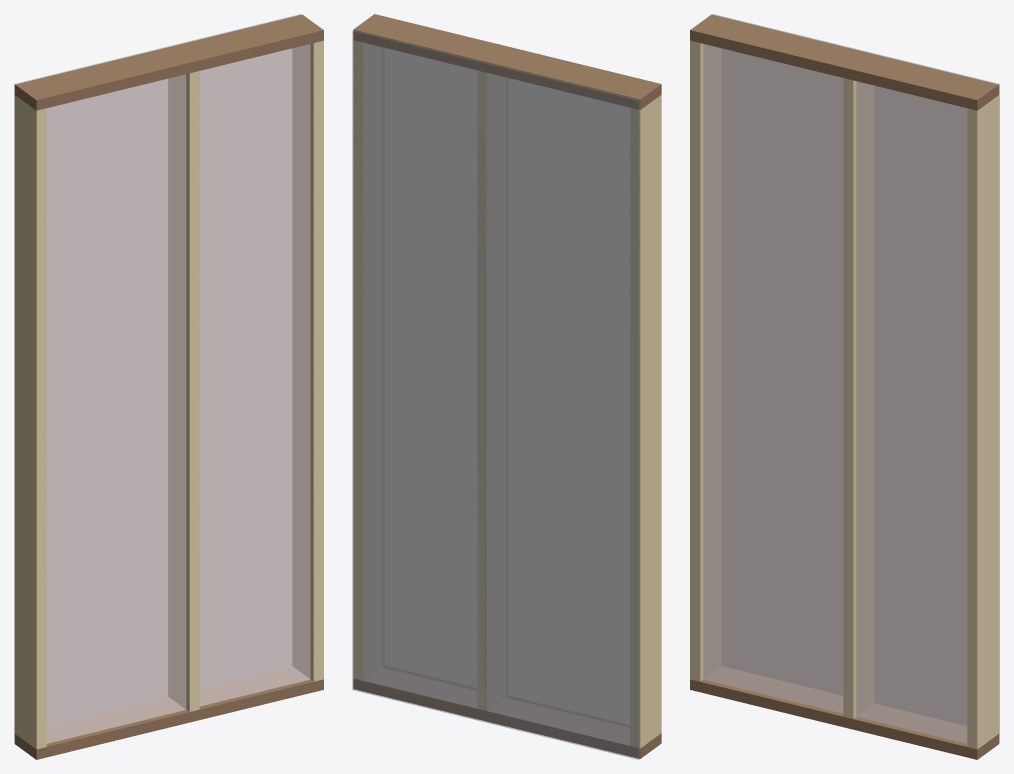
3 views of the same model, side by side, from view 1: azimuth 30°, elevation 25°; view 2: azimuth 150°, elevation 25°; view 3: azimuth 330°, elevation 25° (orthographic).
Parts seen in each view (by area): view 1: EX21 GF; view 2: EX21 GF; view 3: EX21 GF.
Part boxes in pixels (bbox=[...]): EX21 GF: bbox=[14, 14, 323, 759]; EX21 GF: bbox=[352, 14, 661, 759]; EX21 GF: bbox=[690, 14, 999, 759].
Size of the model in its own units: 1.09 by 2.39 by 0.149.
